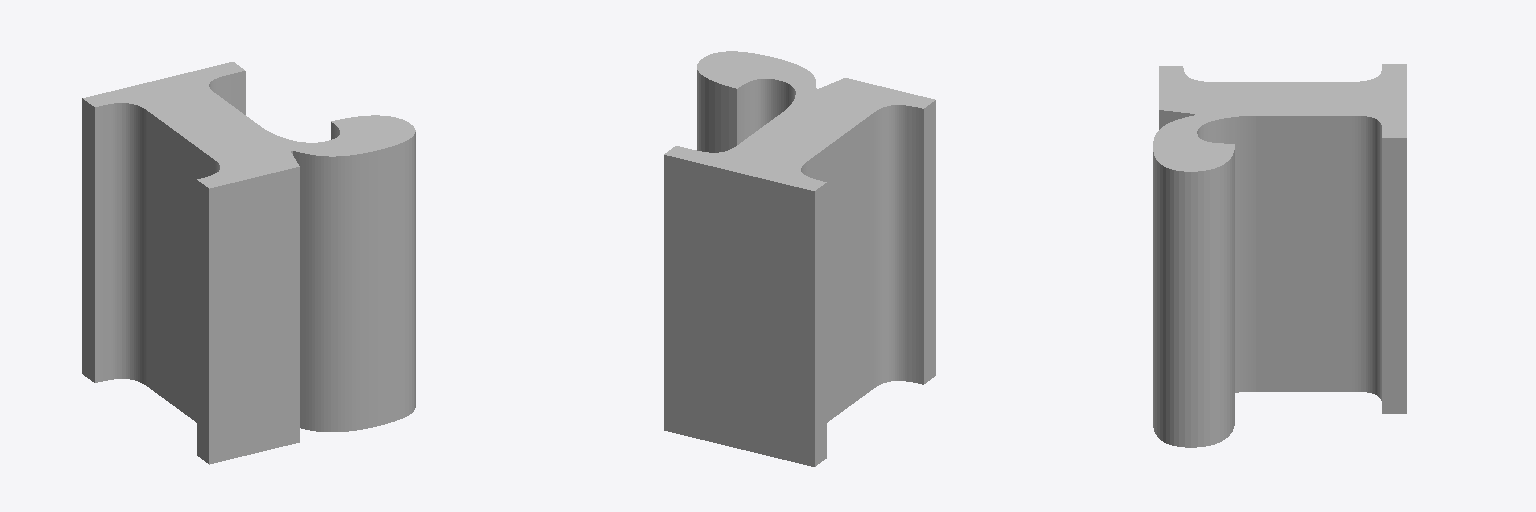
3 views of the same model, side by side, from view 1: azimuth 30°, elevation 25°; view 2: azimuth 150°, elevation 25°; view 3: azimuth 270°, elevation 25° (orthographic).
Parts seen in each view (by area): view 1: obj_0; view 2: obj_0; view 3: obj_0.
Part boxes in pixels (left/top/right/bottom): obj_0: left=82, top=62, right=415, bottom=464; obj_0: left=664, top=51, right=935, bottom=466; obj_0: left=1153, top=64, right=1406, bottom=447.
Size of the model in its own units: 5 by 5.99 by 5.